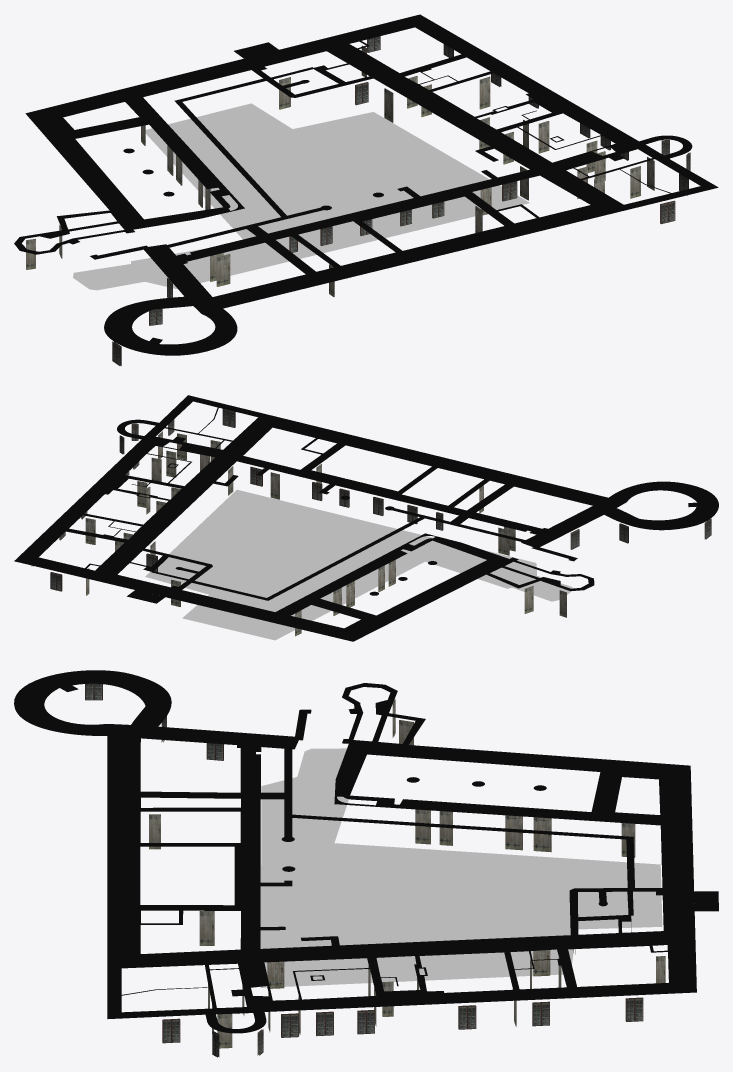
Rendered from 1_STAVS.fbx.
3 renders of one model, top to bottom at view 1: azimuth 30°, elevation 25°; view 2: azimuth 150°, elevation 25°; view 3: azimuth 270°, elevation 25°, orthographic. The views are drawn at different scales.
Visible parts, largest first — view 1: 1_GRIEZUMS, 0_GENIS_INN, 1_LD; view 2: 1_GRIEZUMS, 0_GENIS_INN, 1_LD; view 3: 1_GRIEZUMS, 0_GENIS_INN, 1_LD.
Boxes of the visible parts, x1=… form: 1_GRIEZUMS: x1=14, y1=14, x2=718, y2=355; 0_GENIS_INN: x1=73, y1=103, x2=529, y2=290; 1_LD: x1=26, y1=36, x2=690, y2=365; 1_GRIEZUMS: x1=14, y1=395, x2=718, y2=641; 0_GENIS_INN: x1=145, y1=489, x2=572, y2=640; 1_LD: x1=31, y1=409, x2=711, y2=636; 1_GRIEZUMS: x1=14, y1=670, x2=718, y2=1033; 0_GENIS_INN: x1=260, y1=748, x2=662, y2=987; 1_LD: x1=85, y1=683, x2=665, y2=1057.
Size of what is drawn, in the model's own units: 59881 by 3011 by 49116.
